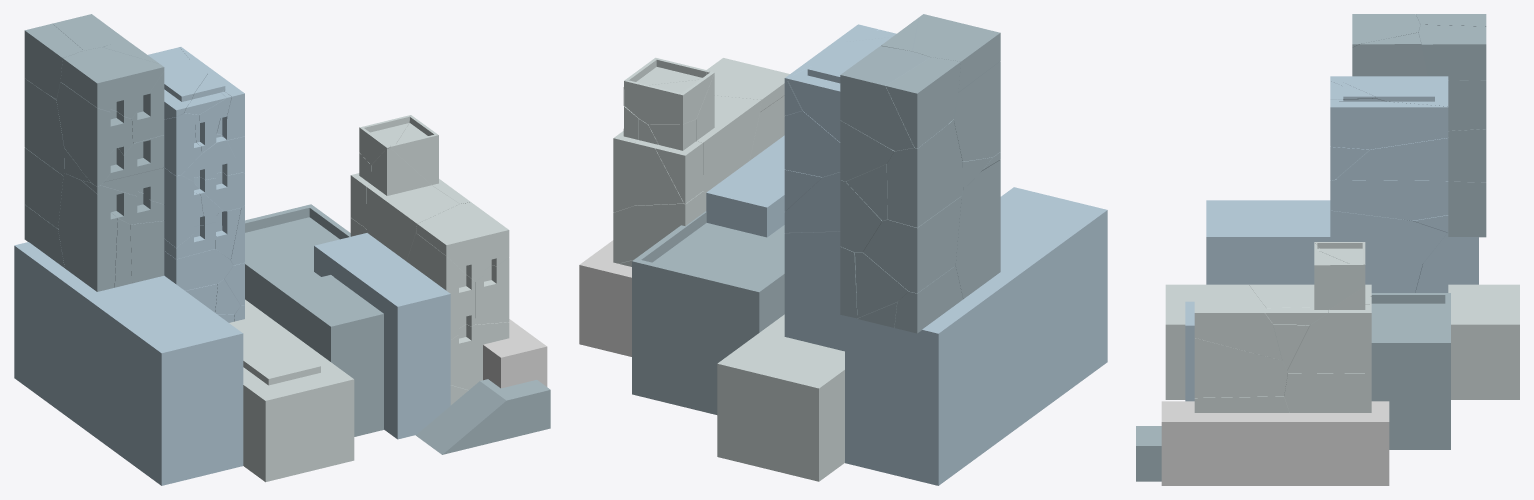
Rendered from new-city.glb.
3 views of the same model, side by side, from view 1: azimuth 30°, elevation 25°; view 2: azimuth 150°, elevation 25°; view 3: azimuth 270°, elevation 25° (orthographic). The views are drawn at different scales.
Visible parts, largest first — view 1: Cube.007, Cube.005, Cube.006, Cube.002, Cube.008, Cube.003_cell.008, Cube.010_cell.015, Cube.010_cell.014, Cube.010_cell.001, Cube.003_cell.014, Cube.001, Cube.003_cell.012 (+29 smaller); view 2: Cube.007, Cube.005, Cube.006, Cube.009_cell.003, Cube.010_cell.019, Cube.010_cell.006, Cube.010_cell.004, Cube.002, Cube.001, Cube.010_cell.015, Cube.003_cell.008, Cube.010_cell.009 (+23 smaller); view 3: Cube.001, Cube.005, Cube.007, Cube.006, Cube.009_cell.011, Cube.003_cell.013, Cube.003_cell.014, Cube.003_cell.005, Cube.009_cell.019, Cube.009_cell.014, Cube.009_cell.005, Cube.010_cell.004 (+19 smaller).
Part boxes in pixels (<box>): Cube.007: <box>14,242,243,485</box>; Cube.005: <box>245,204,383,436</box>; Cube.006: <box>229,299,354,482</box>; Cube.002: <box>314,233,450,439</box>; Cube.008: <box>416,379,550,454</box>; Cube.003_cell.008: <box>366,148,459,261</box>; Cube.010_cell.015: <box>58,173,117,291</box>; Cube.010_cell.014: <box>60,47,164,118</box>; Cube.010_cell.001: <box>56,82,132,186</box>; Cube.003_cell.014: <box>416,202,509,281</box>; Cube.001: <box>483,319,547,388</box>; Cube.003_cell.012: <box>406,233,474,339</box>; Cube.007: <box>845,187,1107,485</box>; Cube.005: <box>632,211,784,414</box>; Cube.006: <box>717,314,844,481</box>; Cube.009_cell.003: <box>784,231,844,351</box>; Cube.010_cell.019: <box>887,120,962,227</box>; Cube.010_cell.006: <box>863,196,961,293</box>; Cube.010_cell.004: <box>840,46,953,150</box>; Cube.002: <box>706,135,784,237</box>; Cube.001: <box>579,240,631,356</box>; Cube.010_cell.015: <box>955,160,1000,298</box>; Cube.003_cell.008: <box>696,73,761,192</box>; Cube.010_cell.009: <box>886,57,960,148</box>; Cube.001: <box>1161,401,1389,485</box>; Cube.005: <box>1371,293,1450,449</box>; Cube.007: <box>1206,200,1478,284</box>; Cube.006: <box>1165,284,1519,399</box>; Cube.009_cell.011: <box>1330,98,1448,149</box>; Cube.003_cell.013: <box>1287,286,1371,373</box>; Cube.003_cell.014: <box>1194,284,1282,360</box>; Cube.003_cell.005: <box>1194,338,1287,397</box>; Cube.009_cell.019: <box>1330,179,1448,220</box>; Cube.009_cell.014: <box>1330,210,1446,263</box>; Cube.009_cell.005: <box>1335,138,1448,180</box>; Cube.010_cell.004: <box>1418,24,1486,80</box>.
Size of what is drawn, in the model's own units: 3.65 by 3.29 by 3.63.
